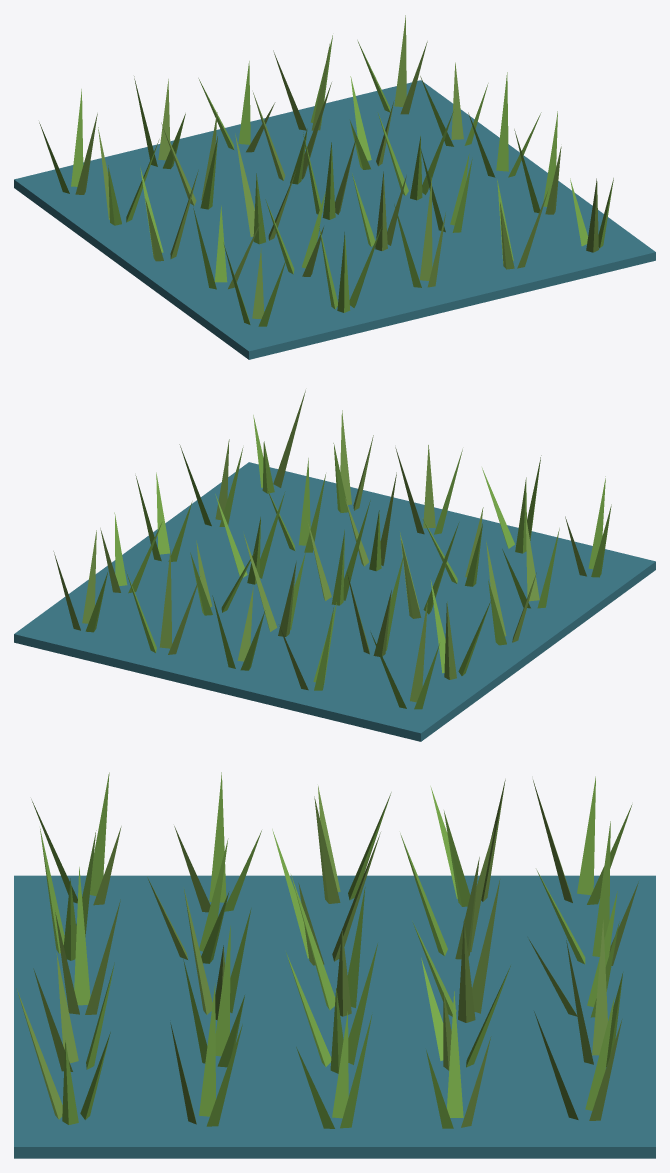
The model's file is rice_patch.fbx.
3 renders of one model, top to bottom at view 1: azimuth 30°, elevation 25°; view 2: azimuth 150°, elevation 25°; view 3: azimuth 270°, elevation 25°, orthographic. The views are drawn at different scales.
Parts seen in each view (by area): view 1: rice_patch; view 2: rice_patch; view 3: rice_patch.
Part boxes in pixels (box(x1,y1,x2,y2)): rice_patch: box(14, 15, 655, 359); rice_patch: box(14, 390, 655, 741); rice_patch: box(14, 772, 655, 1158).
Bounding box in the file's own units: 2 × 0.4744 × 2.
